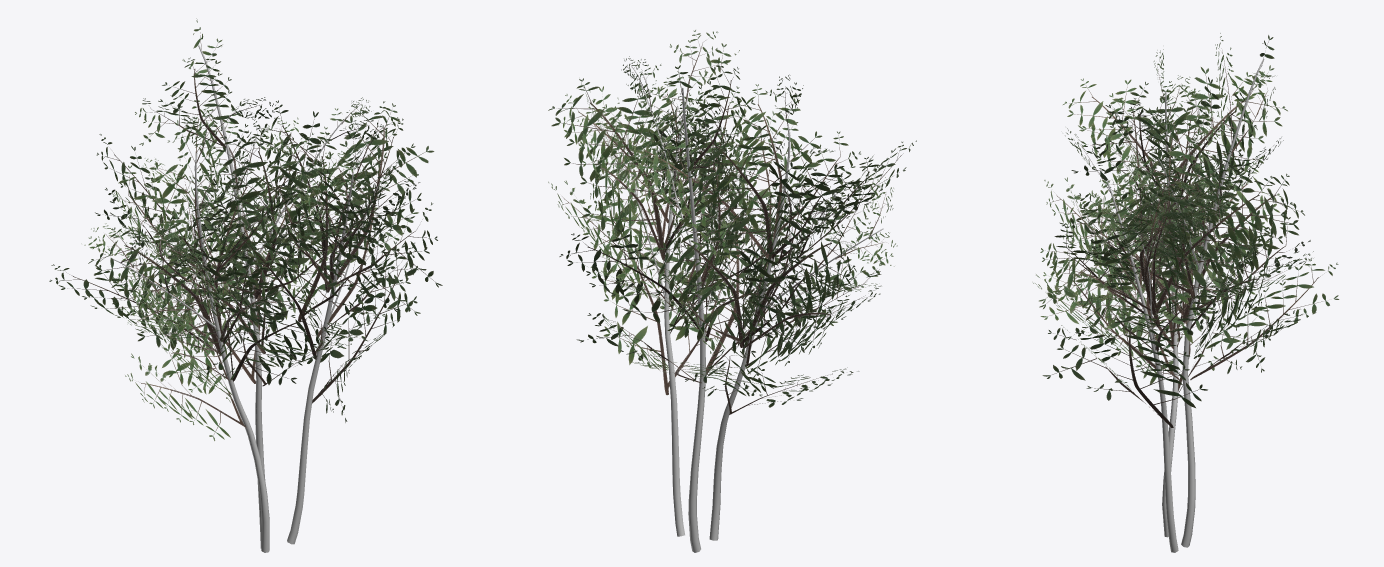
File: Tree1.fbx
3 views of the same model, side by side, from view 1: azimuth 30°, elevation 25°; view 2: azimuth 150°, elevation 25°; view 3: azimuth 270°, elevation 25° (orthographic). The views are drawn at different scales.
Visible parts, largest first — view 1: Tree1; view 2: Tree1; view 3: Tree1.
Boxes of the visible parts, x1,y1,x2,y2 form: Tree1: (49,18,442,552); Tree1: (548,30,916,552); Tree1: (1032,33,1339,552).
Size of the model in its own units: 1.9 by 2.53 by 1.72.
